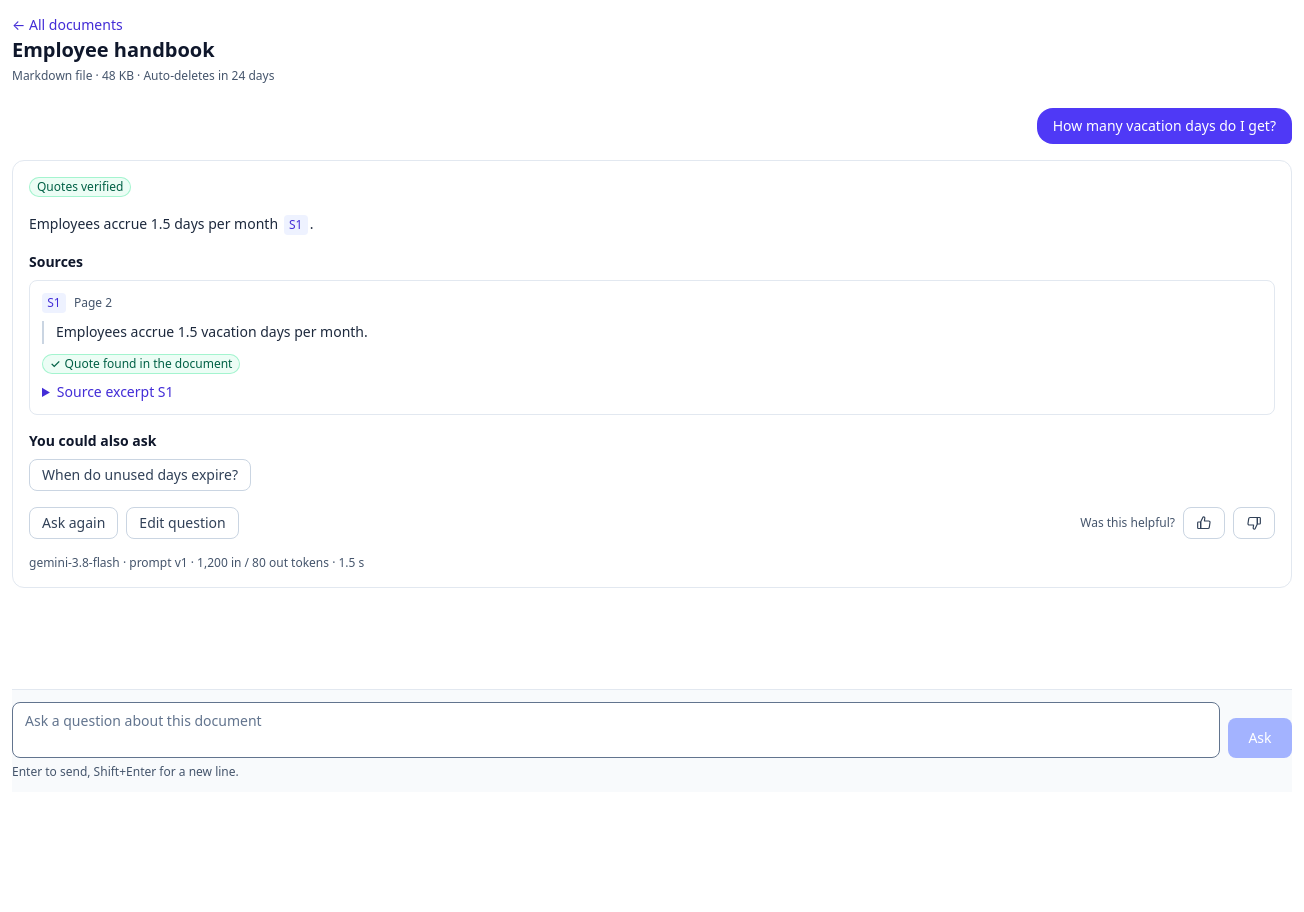
ChatView: a stored conversation › shows the document, the question and an answer whose sources can be opened
Check: the heading "Employee handbook" is shown, box [12, 36, 215, 63]
Check: the text "How many vacation days do I get?" is shown, box [1037, 108, 1292, 144]
Step 1. Click the button named "Show source S1" → coordinates (296, 225), box [284, 215, 308, 235]
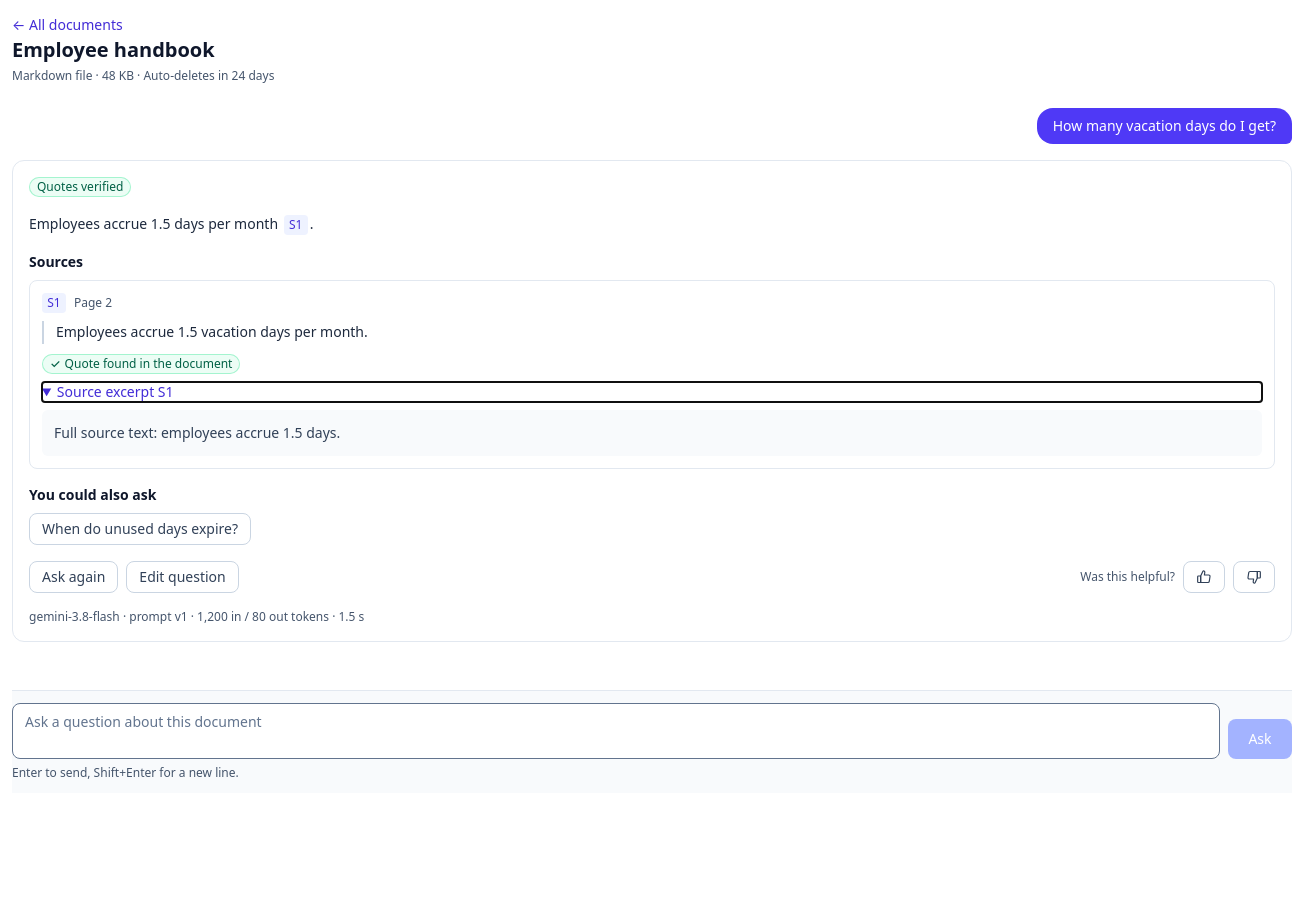
Check: the text "Full source text: employees accrue 1.5 days." is shown, box [42, 410, 1262, 456]
